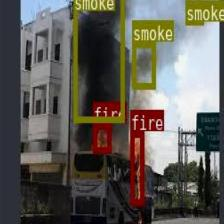fire: (130, 130, 143, 204), (93, 123, 110, 152)
smoke: (72, 0, 123, 121), (132, 41, 155, 88), (185, 0, 203, 23)
